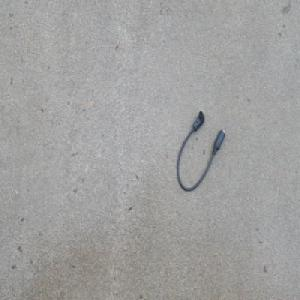Wire: (176, 109, 226, 192)
